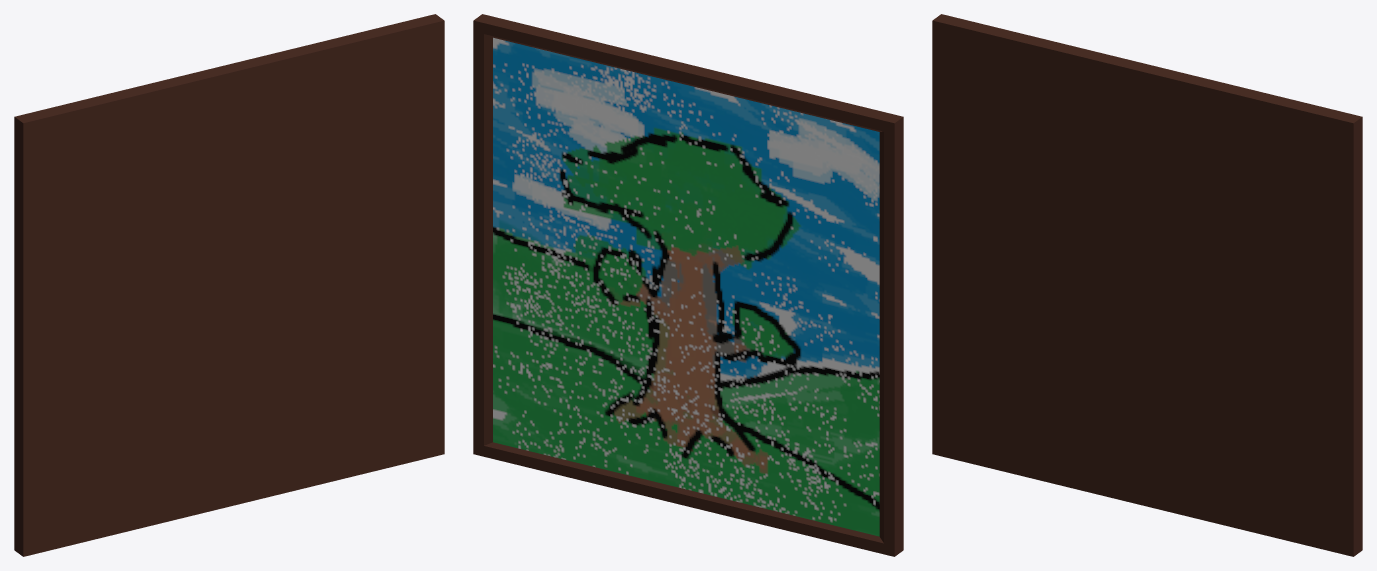
Rendered from Painting4.fbx.
3 views of the same model, side by side, from view 1: azimuth 30°, elevation 25°; view 2: azimuth 150°, elevation 25°; view 3: azimuth 330°, elevation 25° (orthographic).
Parts seen in each view (by area): view 1: Cube.006; view 2: Cube.006; view 3: Cube.006.
Part boxes in pixels (x1,y1,x2,y2): Cube.006: (14, 14, 444, 556); Cube.006: (473, 14, 903, 556); Cube.006: (932, 14, 1362, 556).
Bounding box in the file's own units: 436 × 429 × 16.04.
Materials: 2 (1 with a texture image).
